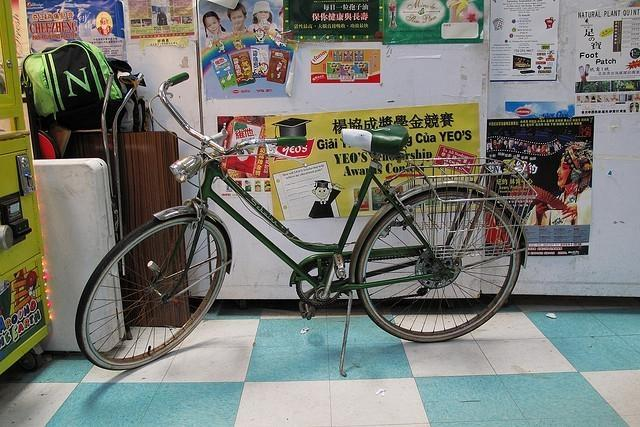bicycle: (70, 73, 538, 378)
